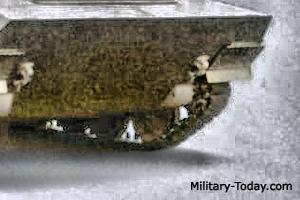tanks: (1, 1, 271, 151)
